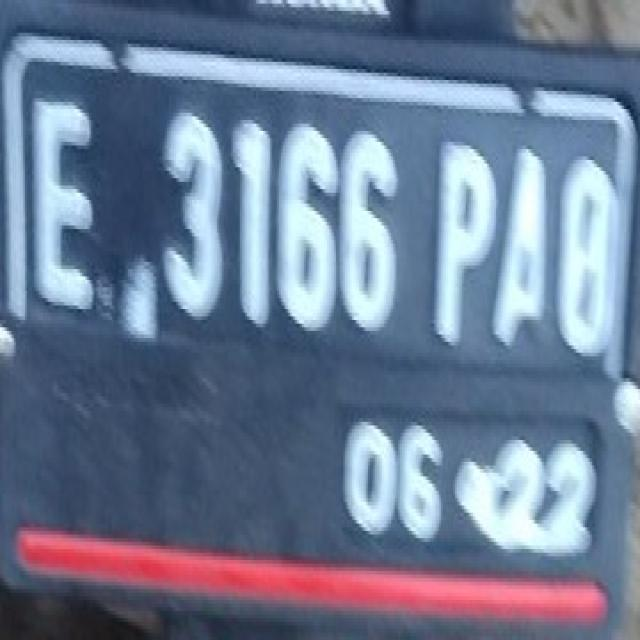plate: (3, 18, 634, 589)
